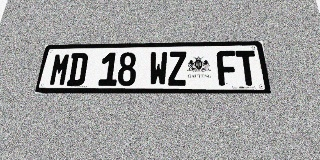1: (98, 52, 119, 86)
8: (117, 52, 137, 86)
D: (66, 53, 89, 86)
F: (216, 51, 239, 86)
M: (48, 53, 71, 86)
T: (235, 50, 259, 86)
W: (149, 52, 168, 86)
Z: (168, 51, 187, 86)
